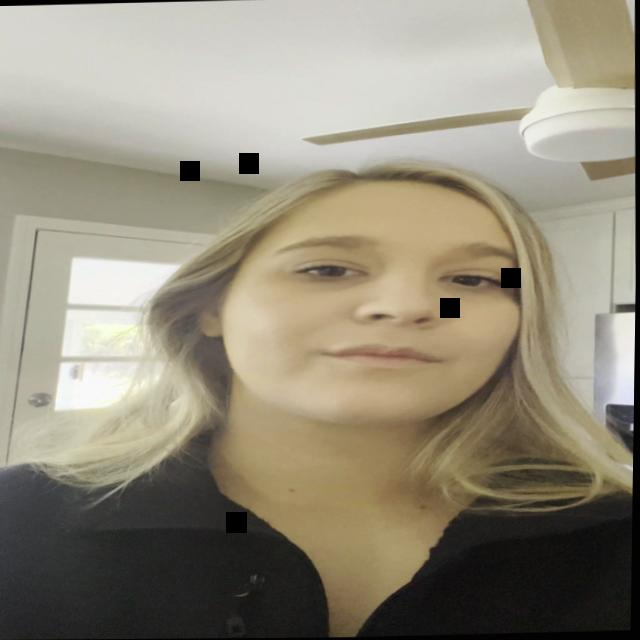NO-Mask: (185, 171, 551, 462)
